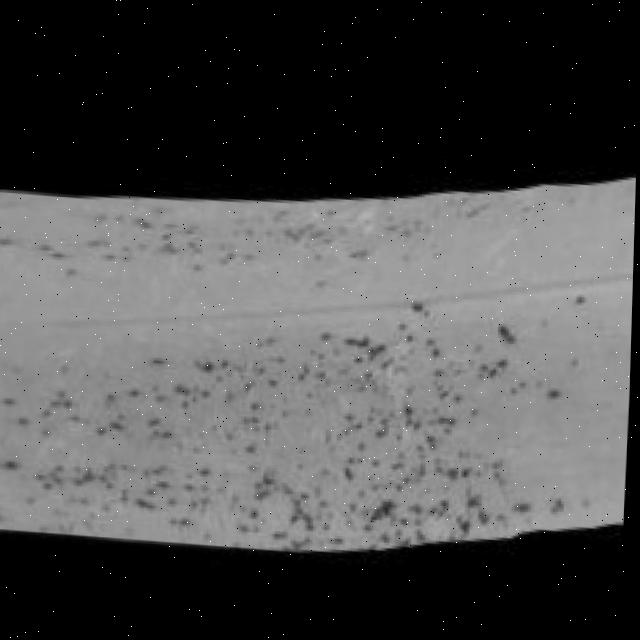mite: (0, 449, 26, 473), (493, 311, 516, 337), (547, 484, 570, 507), (511, 487, 534, 508), (546, 375, 563, 392), (3, 455, 20, 470)
